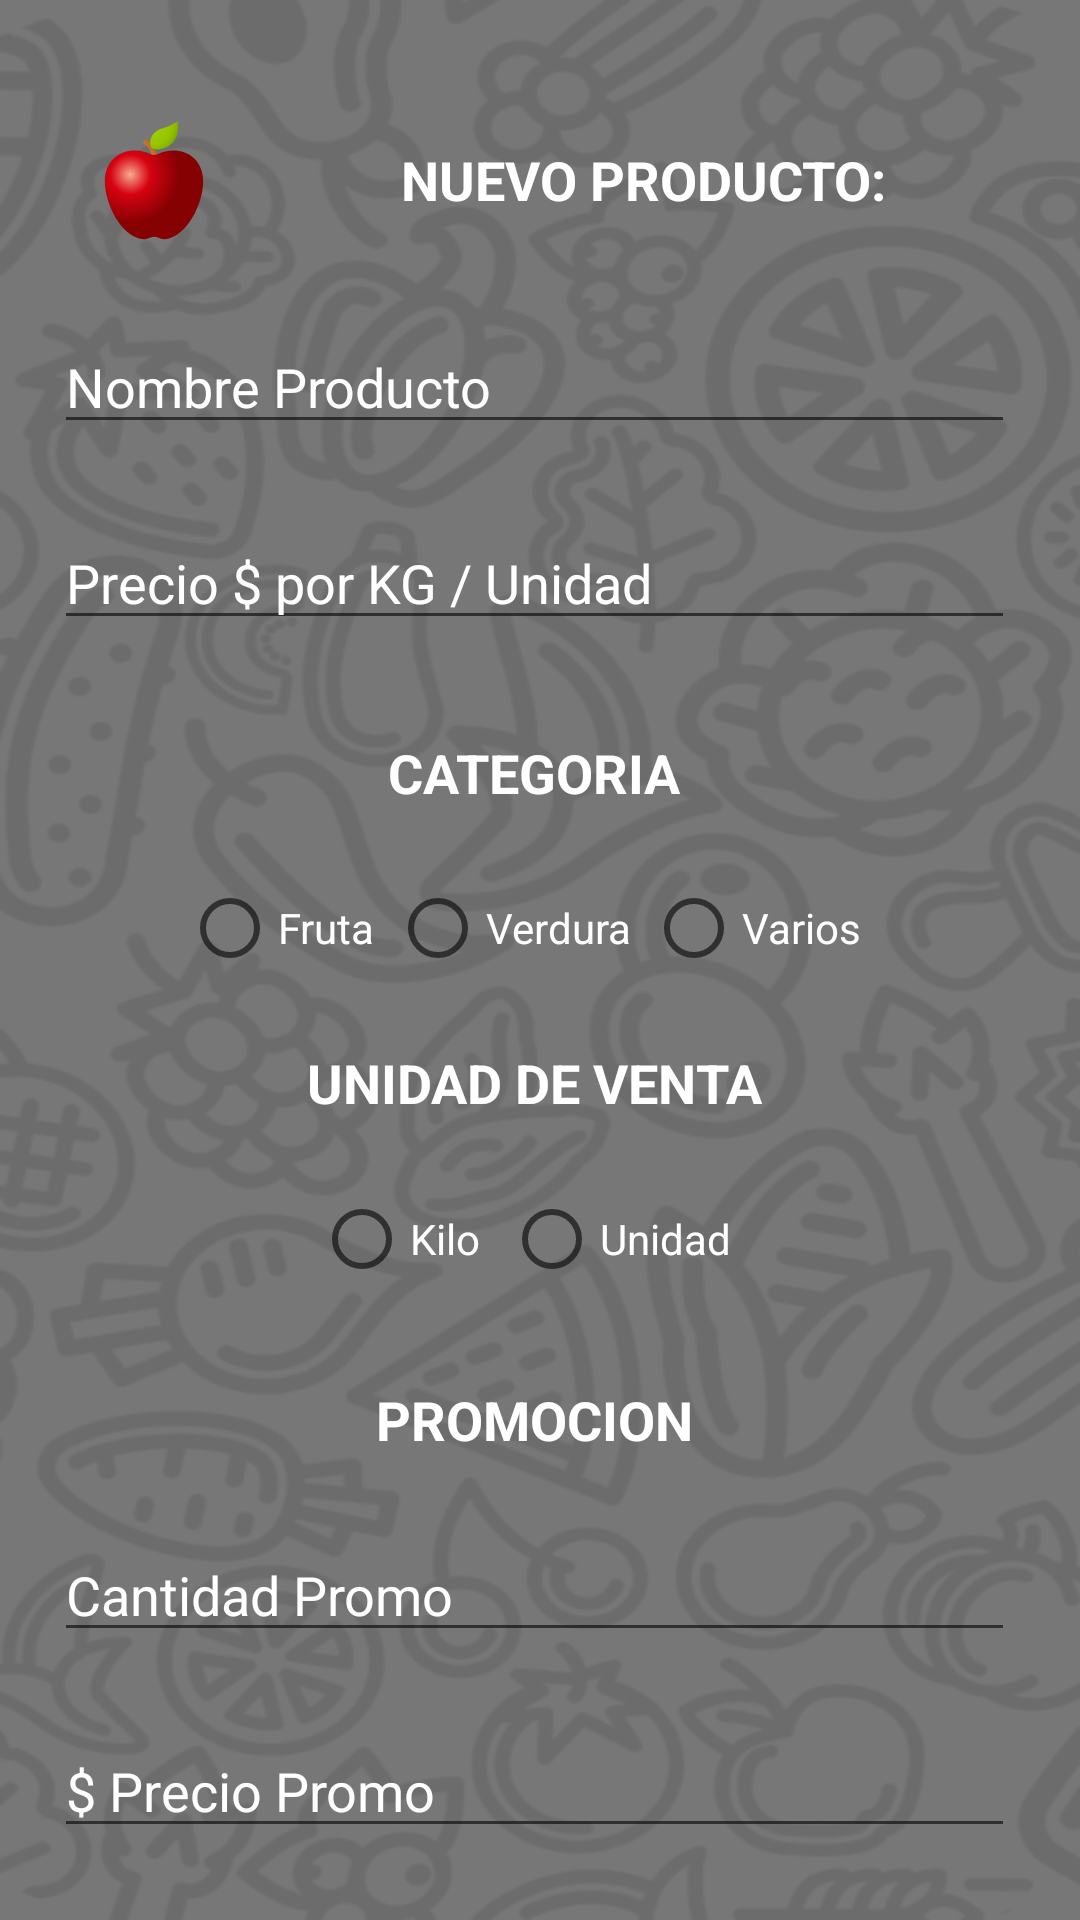

Icon bounding boxes for this 1080w x 1920h phone screenshot, format (x1, y1, x2, y2):
apple: (105, 121, 204, 240)
